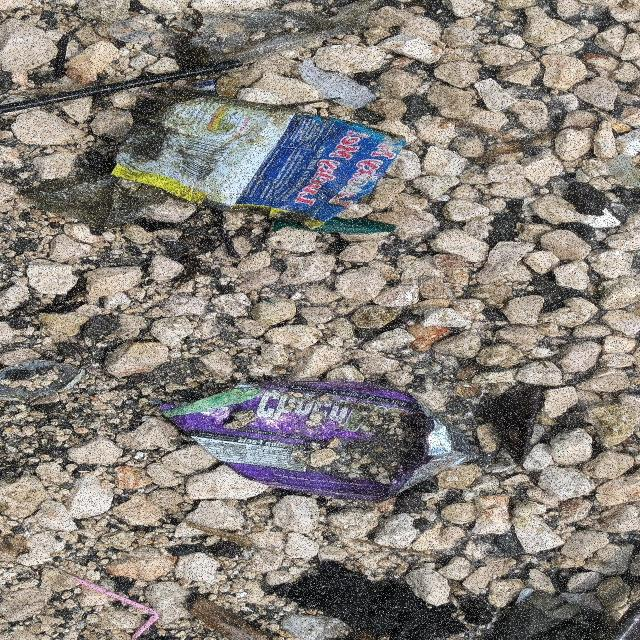plastic_waste: (110, 87, 408, 232), (158, 381, 486, 505)
